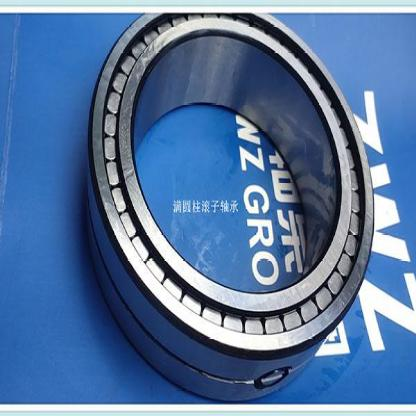FOD: (72, 0, 384, 409)
